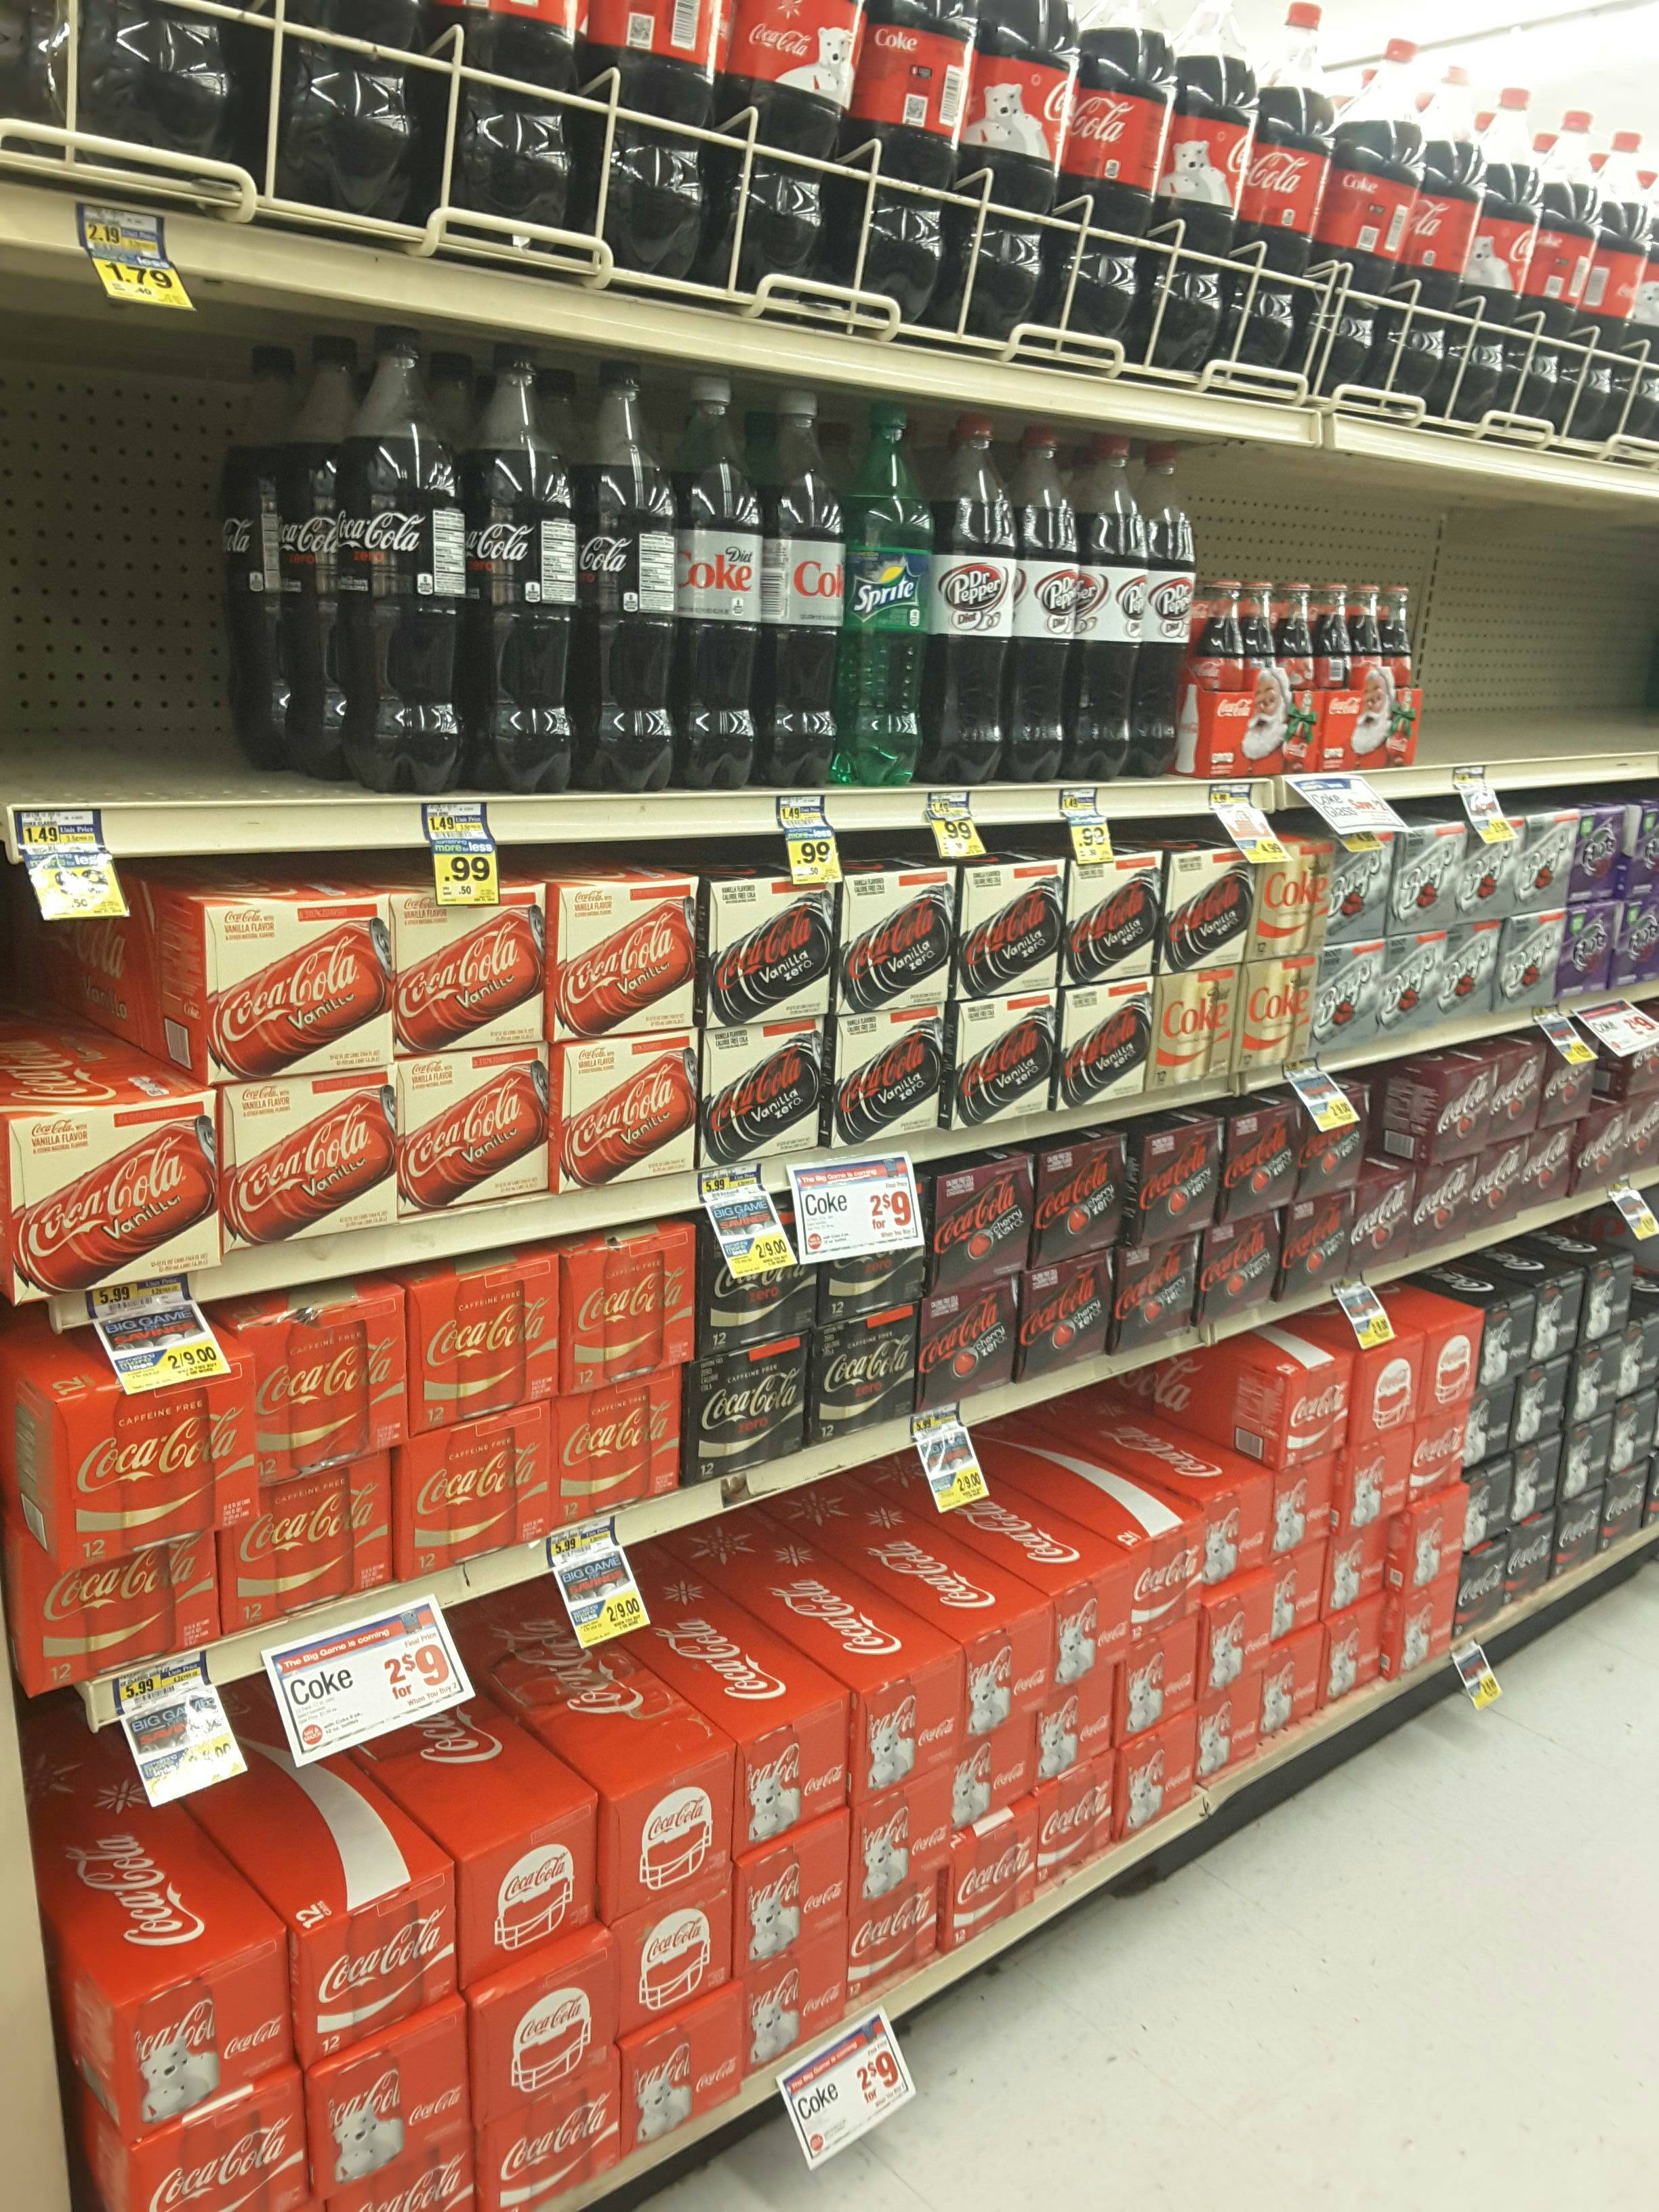Misplacement: (12, 899, 214, 1305)
Out-of-stock: (12, 329, 227, 855), (1425, 491, 1647, 798)
